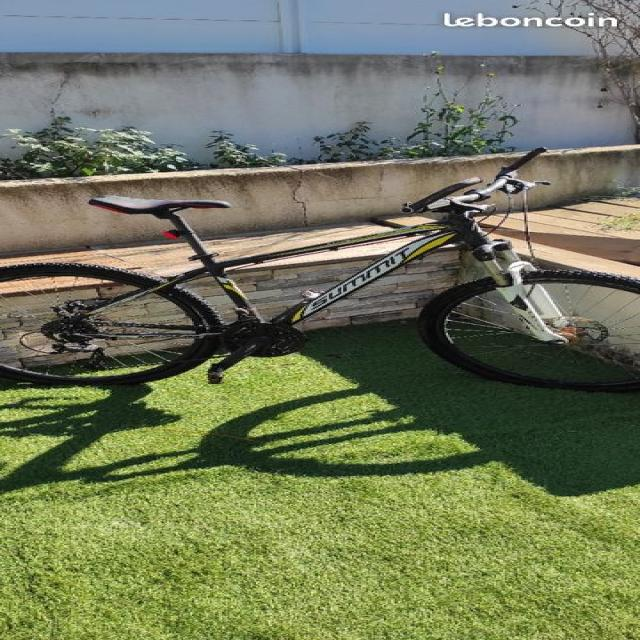Bike: (0, 146, 640, 392)
